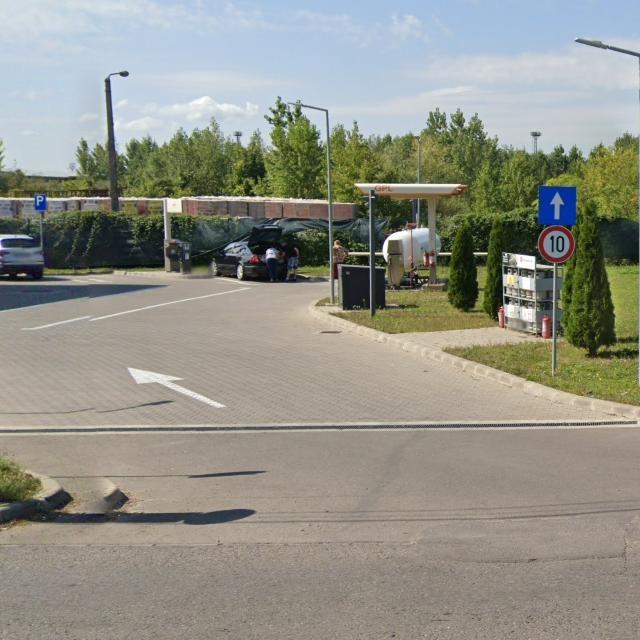forb_speed_over_10: (538, 225, 575, 264)
